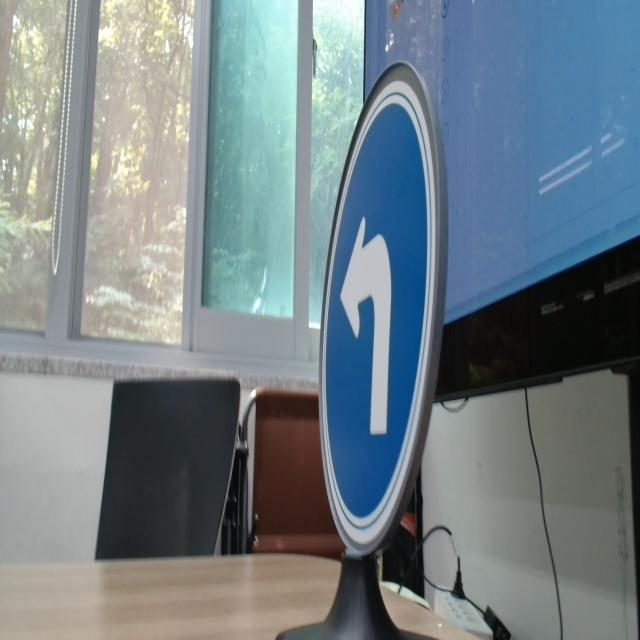left_direction: (301, 49, 474, 573)
